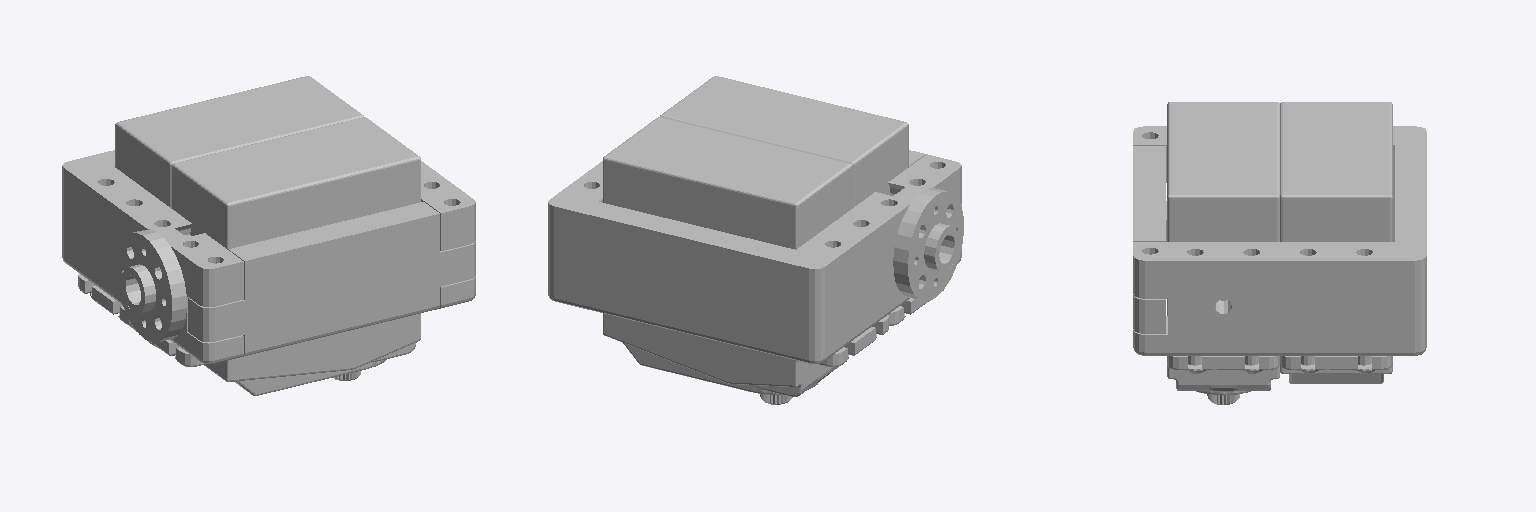
Rendered from lb shoulder.obj.
3 renders of one model, left to right at view 1: azimuth 30°, elevation 25°; view 2: azimuth 150°, elevation 25°; view 3: azimuth 270°, elevation 25°, orthographic.
Parts seen in each view (by area): view 1: Body4, Body5, Body2, Body2:1, Body4:1, Body1, Body1:1, Body4:2, Body1:2; view 2: Body5, Body2:1, Body2, Body4:2, Body1, Body1:2, Body1:1; view 3: Body5, Body2, Body2:1, Body4, Body4:1, Body4:2, Body1:1, Body1:2.
Boxes of the visible parts, box(x1,y1,x2,y2) form: Body4: box(188, 202, 475, 356); Body5: box(62, 150, 475, 363); Body2: box(172, 117, 420, 235); Body2:1: box(115, 76, 363, 194); Body4:1: box(135, 313, 420, 395); Body1: box(116, 229, 186, 342); Body1:1: box(172, 189, 420, 249); Body4:2: box(78, 273, 174, 355); Body1:2: box(115, 155, 171, 208); Body5: box(548, 154, 961, 363); Body2:1: box(603, 117, 851, 235); Body2: box(660, 76, 908, 194); Body4:2: box(603, 313, 888, 396); Body1: box(893, 188, 963, 301); Body1:2: box(603, 189, 851, 249); Body1:1: box(852, 155, 908, 208); Body5: box(1133, 126, 1426, 355); Body2: box(1167, 102, 1279, 227); Body2:1: box(1280, 102, 1392, 227); Body4: box(1133, 146, 1165, 333); Body4:1: box(1167, 356, 1279, 395); Body4:2: box(1280, 356, 1392, 383); Body1:1: box(1167, 227, 1279, 315); Body1:2: box(1280, 227, 1392, 241).
Size of the model in its own units: 0.0618 by 0.0445 by 0.052.